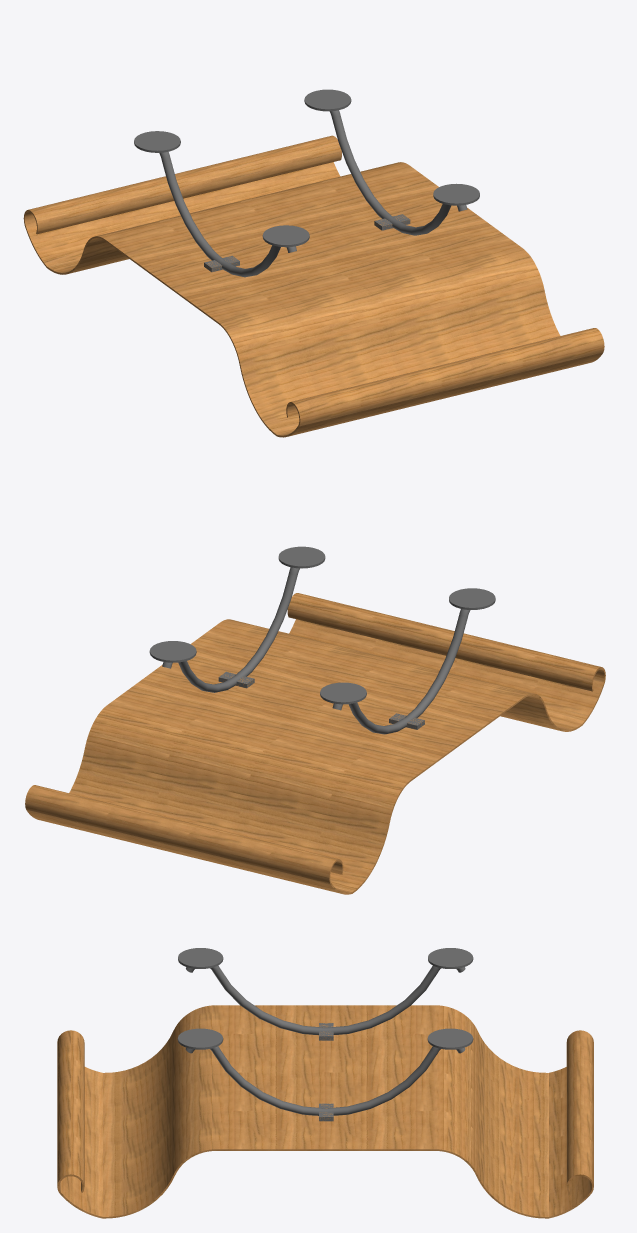
File: GlassTable.glb
3 renders of one model, top to bottom at view 1: azimuth 30°, elevation 25°; view 2: azimuth 150°, elevation 25°; view 3: azimuth 270°, elevation 25°, orthographic. The views are drawn at different scales.
Visible parts, largest first — view 1: group_0.004, group_2.001, group_1.001, group_1.003, group_2.003, group_2.002, group_1.002; view 2: group_0.004, group_1.001, group_2.001, group_1.002, group_2.003, group_1.003, group_2.002; view 3: group_0.004, group_2.001, group_1.001, group_1.003, group_1.002, group_2.002, group_2.003.
Part boxes in pixels (x1=…): group_0.004: x1=23, y1=135, x2=604, y2=437; group_2.001: x1=159, y1=151, x2=296, y2=277; group_1.001: x1=329, y1=110, x2=467, y2=235; group_1.003: x1=304, y1=89, x2=351, y2=111; group_2.003: x1=134, y1=131, x2=180, y2=152; group_2.002: x1=262, y1=225, x2=309, y2=247; group_1.002: x1=433, y1=183, x2=479, y2=205; group_0.004: x1=25, y1=593, x2=605, y2=894; group_1.001: x1=162, y1=567, x2=299, y2=692; group_2.001: x1=332, y1=609, x2=470, y2=734; group_1.002: x1=278, y1=546, x2=325, y2=568; group_2.003: x1=320, y1=682, x2=366, y2=704; group_1.003: x1=149, y1=641, x2=196, y2=662; group_2.002: x1=449, y1=588, x2=495, y2=609; group_0.004: x1=57, y1=1005, x2=593, y2=1218; group_2.001: x1=186, y1=965, x2=465, y2=1035; group_1.001: x1=185, y1=1046, x2=465, y2=1115; group_1.003: x1=427, y1=1028, x2=473, y2=1049; group_1.002: x1=177, y1=1028, x2=223, y2=1049; group_2.002: x1=178, y1=948, x2=223, y2=968; group_2.003: x1=428, y1=948, x2=473, y2=968.
Bounding box in the file's own units: 30.31 × 14.28 × 52.76.
3 materials, 1 textured.
